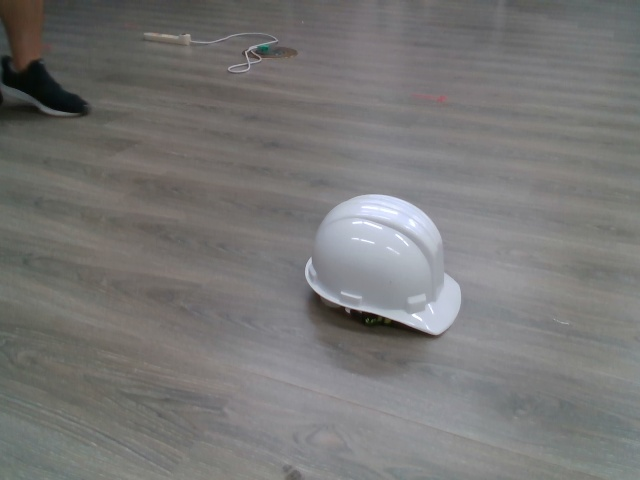helmet: (300, 189, 469, 346)
